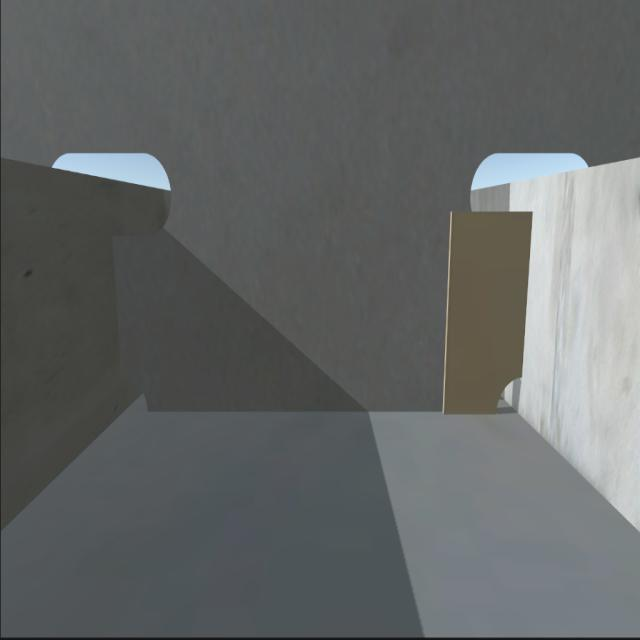fillet_hole: (495, 376, 527, 411), (119, 380, 146, 410)
fillet_yong_jeop_jang: (143, 406, 498, 418)
longi_yong_jeop_jang: (114, 231, 130, 386), (516, 212, 531, 376)
plate_CP01: (450, 211, 530, 407)
